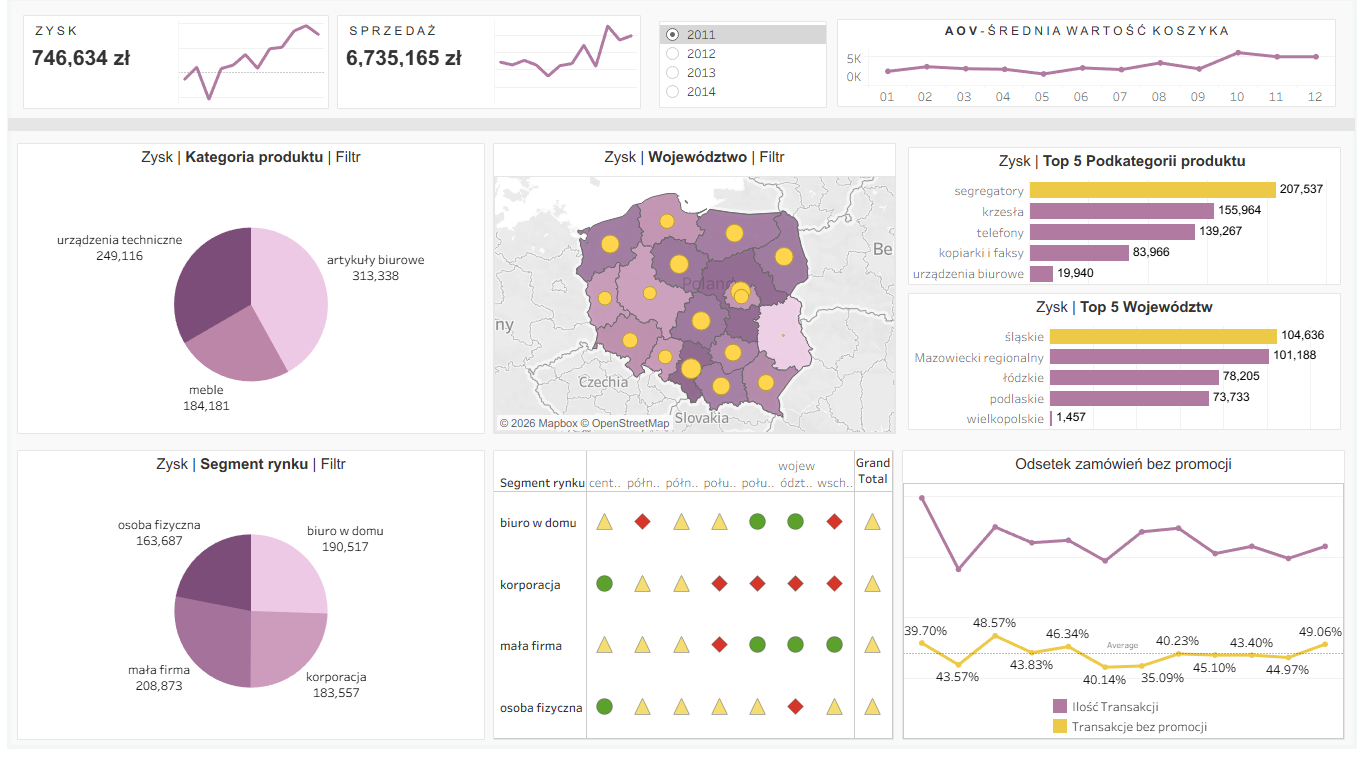

Layout of this report page (visuals, bound fields, positions):
{"tool":"tableau","page":{"name":"DASHBOARD","canvas":[1366,768],"ordinal":0},"visuals":[{"type":"blank","box":[8,8,1350,752]},{"type":"worksheet","title":"ZYSK(DASHBOARD)","mark":"Automatic","box":[25,27,150,92]},{"type":"worksheet","title":"SPRZEDAŻ WYKRES(DASHBOARD)","mark":"Line","rows":["Zysk"],"cols":["Calculation_815433019258150912"],"box":[175,27,154.4,92]},{"type":"worksheet","title":"SPRZEDAŻ(DASHBOARD)","mark":"Automatic","box":[339,27,152,92]},{"type":"worksheet","title":"ZYSK WYKRES(DASHBOARD)","mark":"Line","rows":["Sprzedaż"],"cols":["Calculation_815433019258150912"],"box":[491,27,151,92]},{"type":"worksheet","title":"AOV","mark":"Line","rows":["Calculation_1327998952249253917"],"cols":["Calculation_815433019258150912"],"box":[838,30,499,88]},{"type":"filter","title":"ZYSK(DASHBOARD)","param":"[federated.1e1henm12tm1041dfsv6b1o7yuw4].[yr:Calculation_815433019258150912:ok]","box":[660,32,168,87]},{"type":"blank","box":[9,129,1347,13]},{"type":"worksheet","title":"ZYSK | KATEGORIA PRODUKTU","mark":"Pie","box":[14,150,476,299]},{"type":"worksheet","title":"MAPA","mark":"Automatic","box":[490,150,411,299]},{"type":"worksheet","title":"TOP 5 PODKATEGORII","mark":"Automatic","rows":["Podkategoria produktu"],"cols":["Zysk"],"box":[905,154,441,146]},{"type":"worksheet","title":"TOP 5 WOJEWÓDZTWA","mark":"Automatic","rows":["Calculation_815433019260084228"],"cols":["Zysk"],"box":[905,300,441,145]},{"type":"worksheet","title":"ZYSK | SEGMENT RYNKU","mark":"Pie","box":[14,457,476,298]},{"type":"worksheet","title":"ZBIORCZA (SEGMENTY) (3)","mark":"Shape","rows":["Segment rynku"],"cols":["Calculation_815433019258150912","Calculation_815433019259920387"],"box":[490,457,409,298]},{"type":"worksheet","title":"ODSETEK ZAMÓWIEŃ BEZ PROMOCJI","mark":"Line","rows":["Nr klienta","Calculation_1327998952257327134"],"cols":["Calculation_815433019258150912"],"box":[899,457,451,298]},{"type":"legend","title":"ODSETEK ZAMÓWIEŃ BEZ PROMOCJI","param":"[federated.1e1henm12tm1041dfsv6b1o7yuw4].[:Measure Names]","box":[1051,707,169,45]}]}

Visuals, with their boxes in screenshot pixels (x1, y1, x2, y2), scaled from the page's 1366x768 canvas onto the 1365x757 screenshot:
blank: 8, 8, 1357, 749
"ZYSK(DASHBOARD)" worksheet: 25, 27, 175, 117
"SPRZEDAŻ WYKRES(DASHBOARD)" worksheet (Line marks): 175, 27, 329, 117
"SPRZEDAŻ(DASHBOARD)" worksheet: 339, 27, 491, 117
"ZYSK WYKRES(DASHBOARD)" worksheet (Line marks): 491, 27, 642, 117
"AOV" worksheet (Line marks): 837, 30, 1336, 116
"ZYSK(DASHBOARD)" filter: 660, 32, 827, 117
blank: 9, 127, 1355, 140
"ZYSK | KATEGORIA PRODUKTU" worksheet (Pie marks): 14, 148, 490, 443
"MAPA" worksheet: 490, 148, 900, 443
"TOP 5 PODKATEGORII" worksheet: 904, 152, 1345, 296
"TOP 5 WOJEWÓDZTWA" worksheet: 904, 296, 1345, 439
"ZYSK | SEGMENT RYNKU" worksheet (Pie marks): 14, 450, 490, 744
"ZBIORCZA (SEGMENTY) (3)" worksheet (Shape marks): 490, 450, 898, 744
"ODSETEK ZAMÓWIEŃ BEZ PROMOCJI" worksheet (Line marks): 898, 450, 1349, 744
"ODSETEK ZAMÓWIEŃ BEZ PROMOCJI" legend: 1050, 697, 1219, 741
